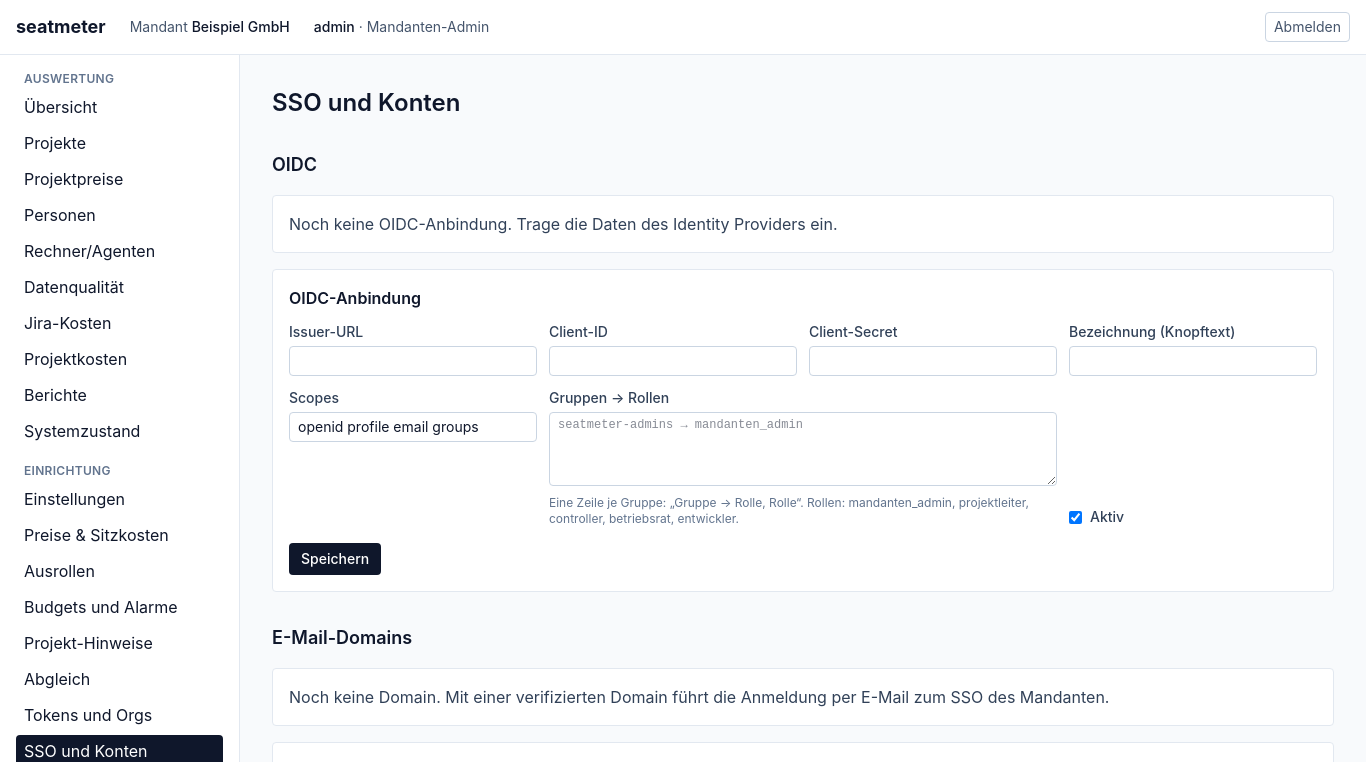
Test: SSO und Konten › OIDC ohne Konfiguration verlangt beim ersten Speichern ein Secret
Type "https://idp.example.org" into the field labelled "Issuer-URL" at [413, 361], box [289,346,537,376]
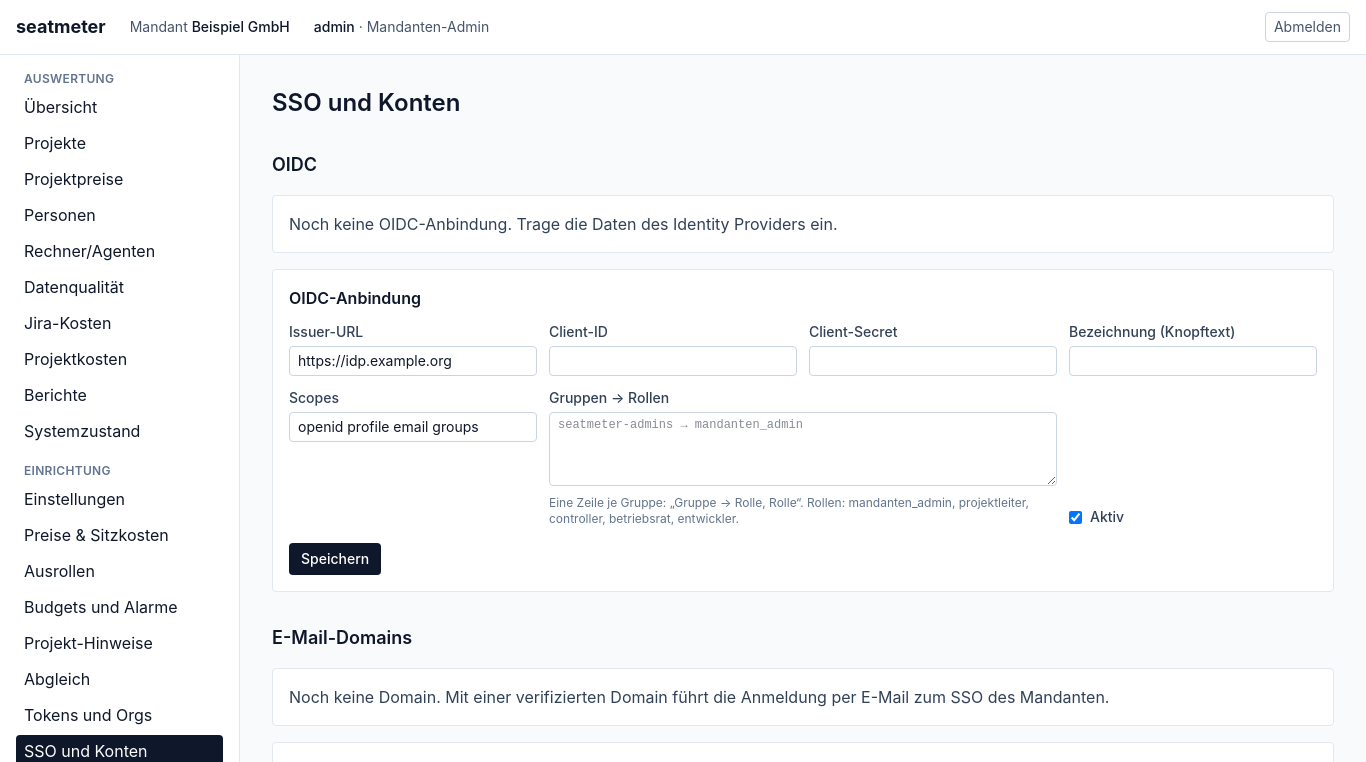
Type "seatmeter" into the field labelled "Client-ID" at [673, 361], box [549,346,797,376]
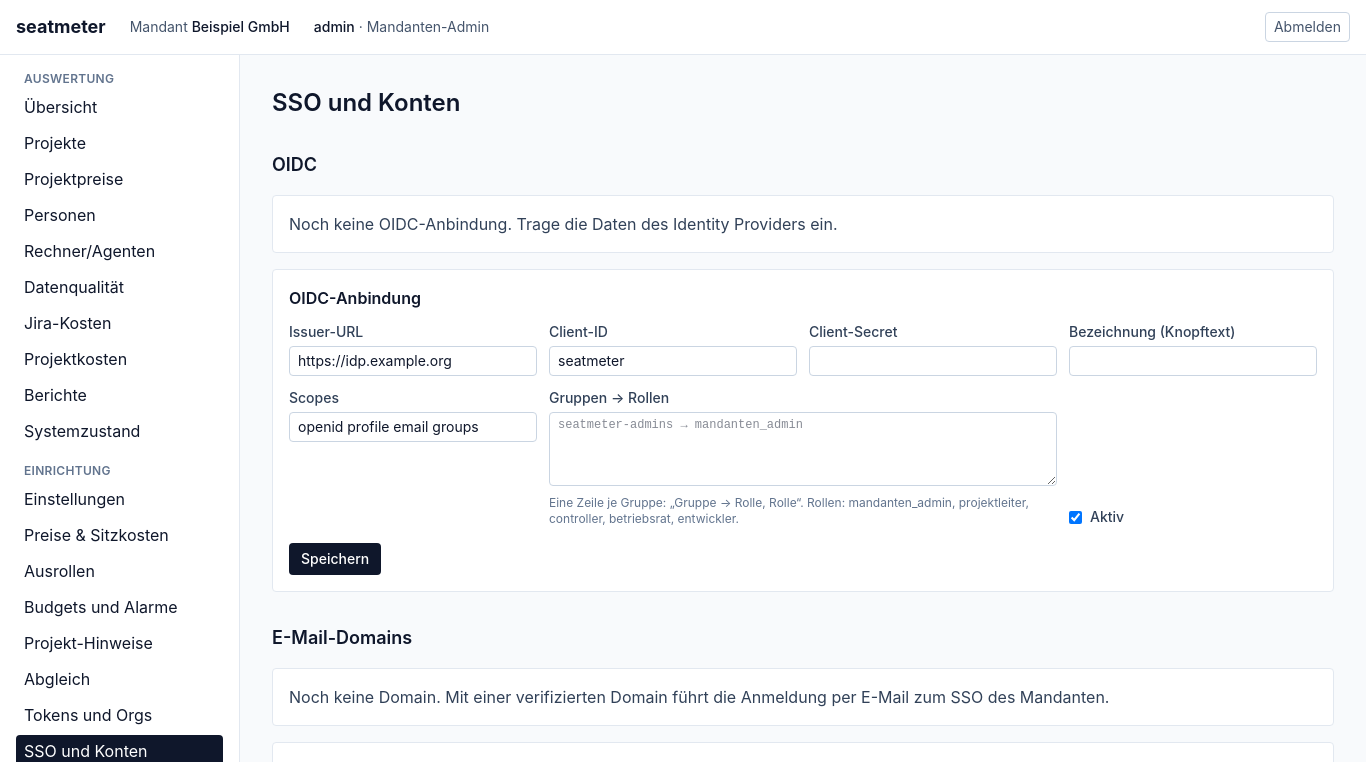
Type "Beispiel SSO" into the field labelled "Bezeichnung (Knopftext)" at [1193, 361], box [1069,346,1317,376]
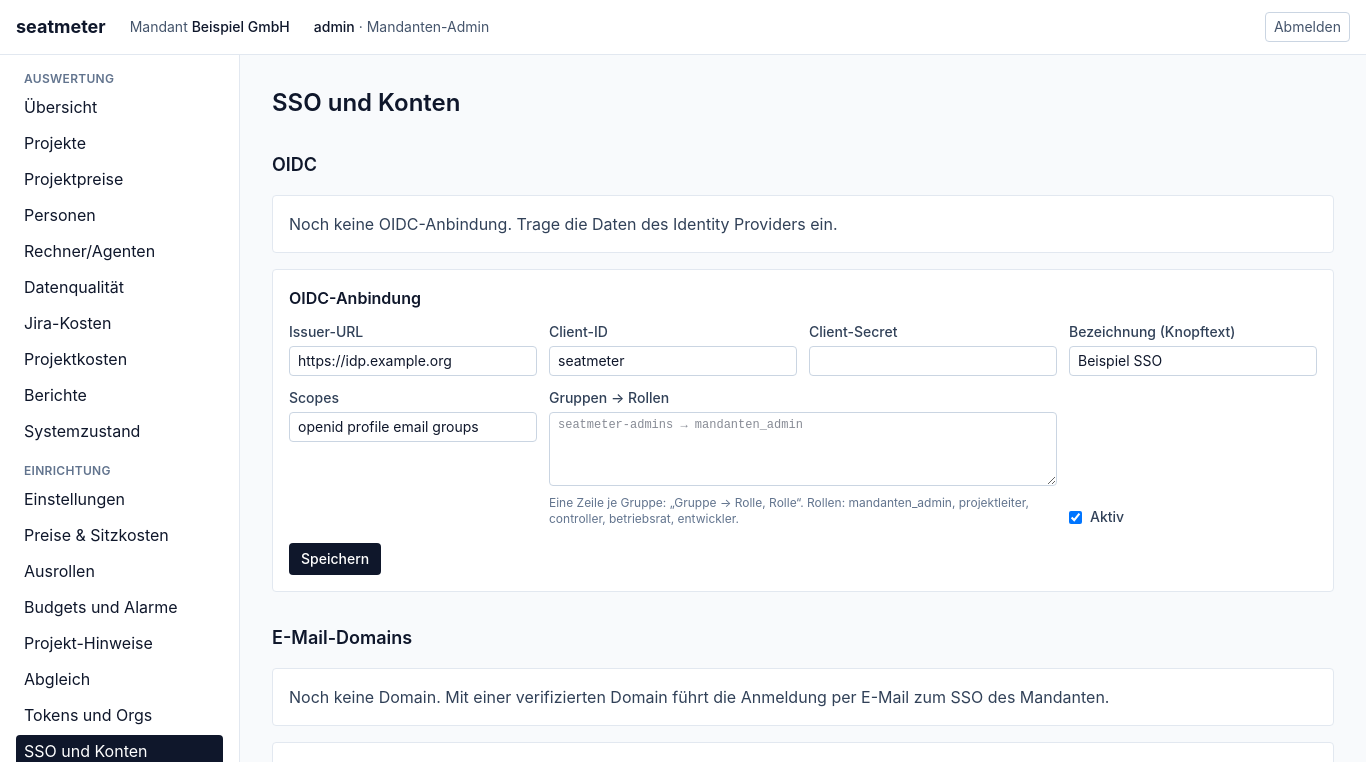
Click the button "Speichern" at [335, 559], box [289,543,381,575]
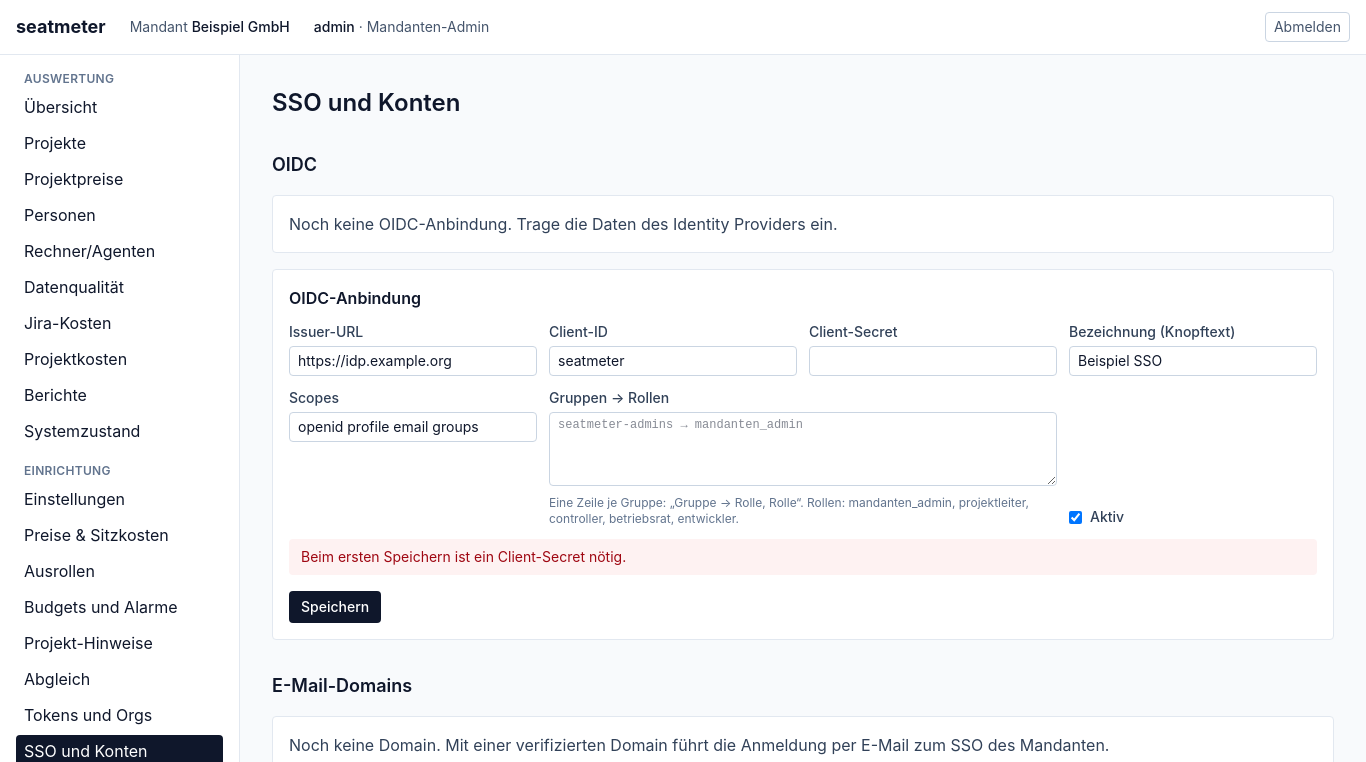
Check: the text "Beim ersten Speichern ist ein Client-Secret nötig." is shown, box [289,539,1317,575]
